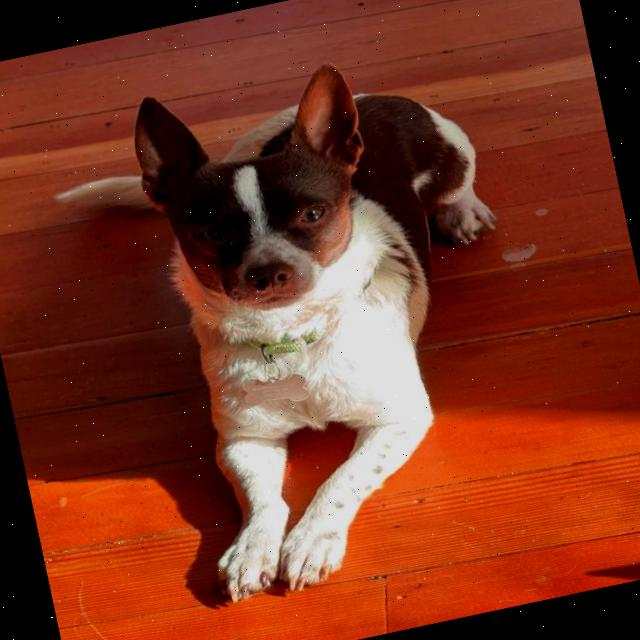chihuahua_dog: (113, 49, 408, 354)
